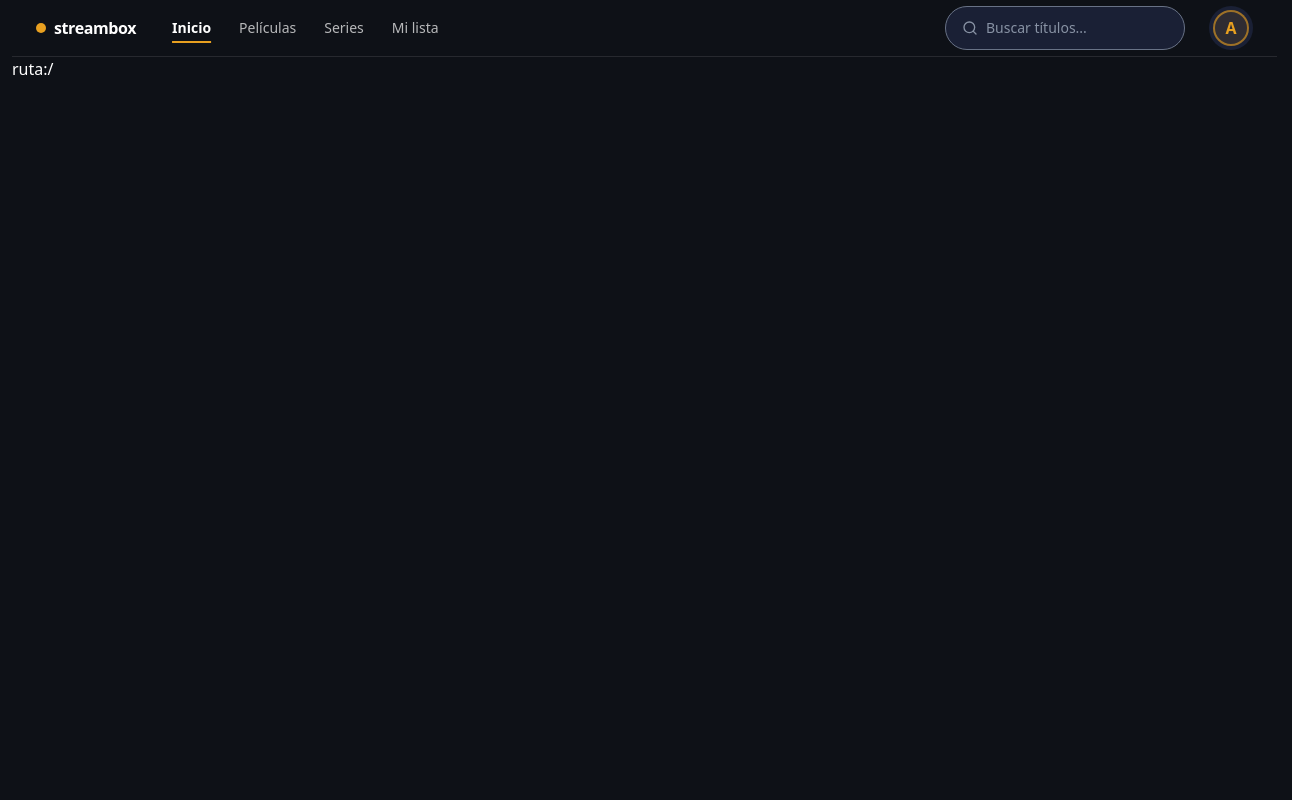
Navbar: «Cerrar sesión» espera al servidor › si no hay conexión ni en el reintento, la sesión sigue abierta, avisa y el botón vuelve a «Cerrar sesión» para reintentar
This screenshot has width=1292, height=800.
Click the button named "Menú de usuario". click: click(1231, 28)
box: [1209,6,1253,50]
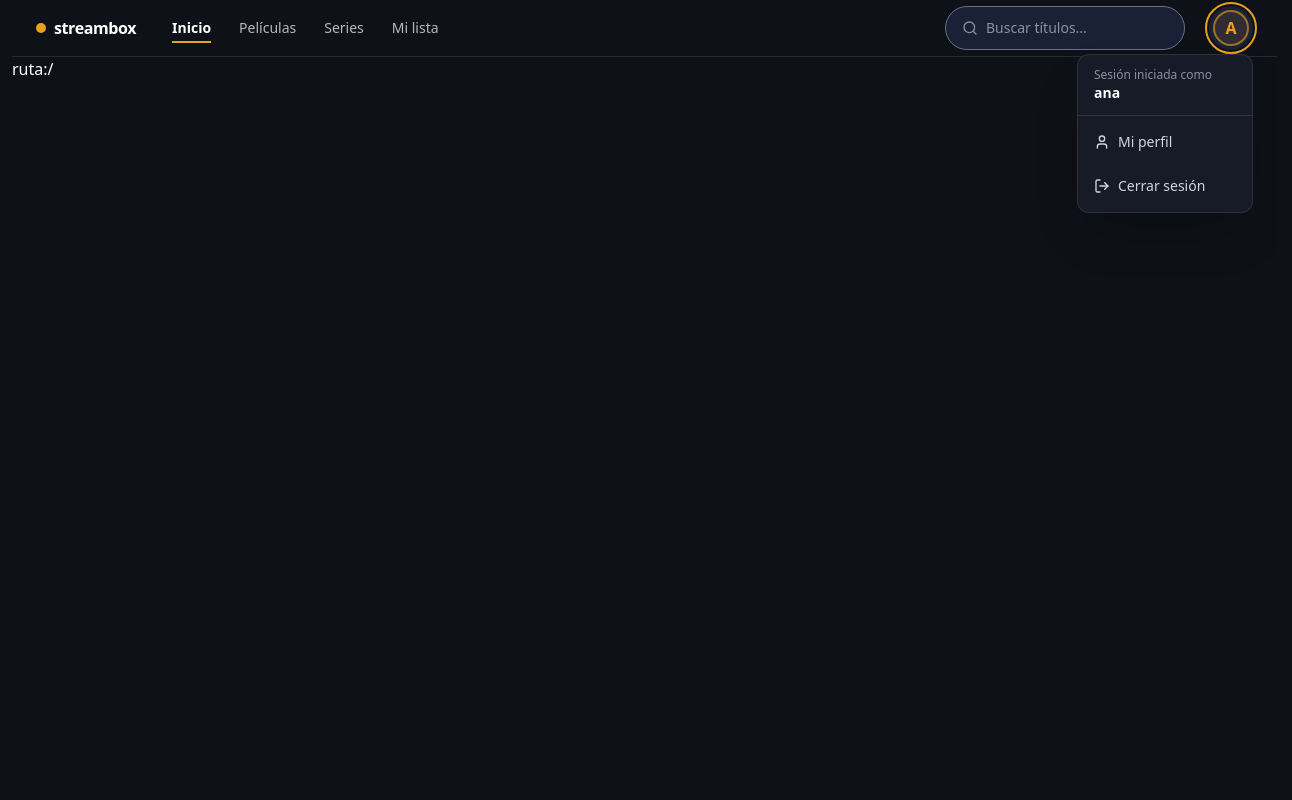
Click the button "Cerrar sesión". click: click(1165, 186)
box: [1078,164,1252,208]
Wait 1000 ms
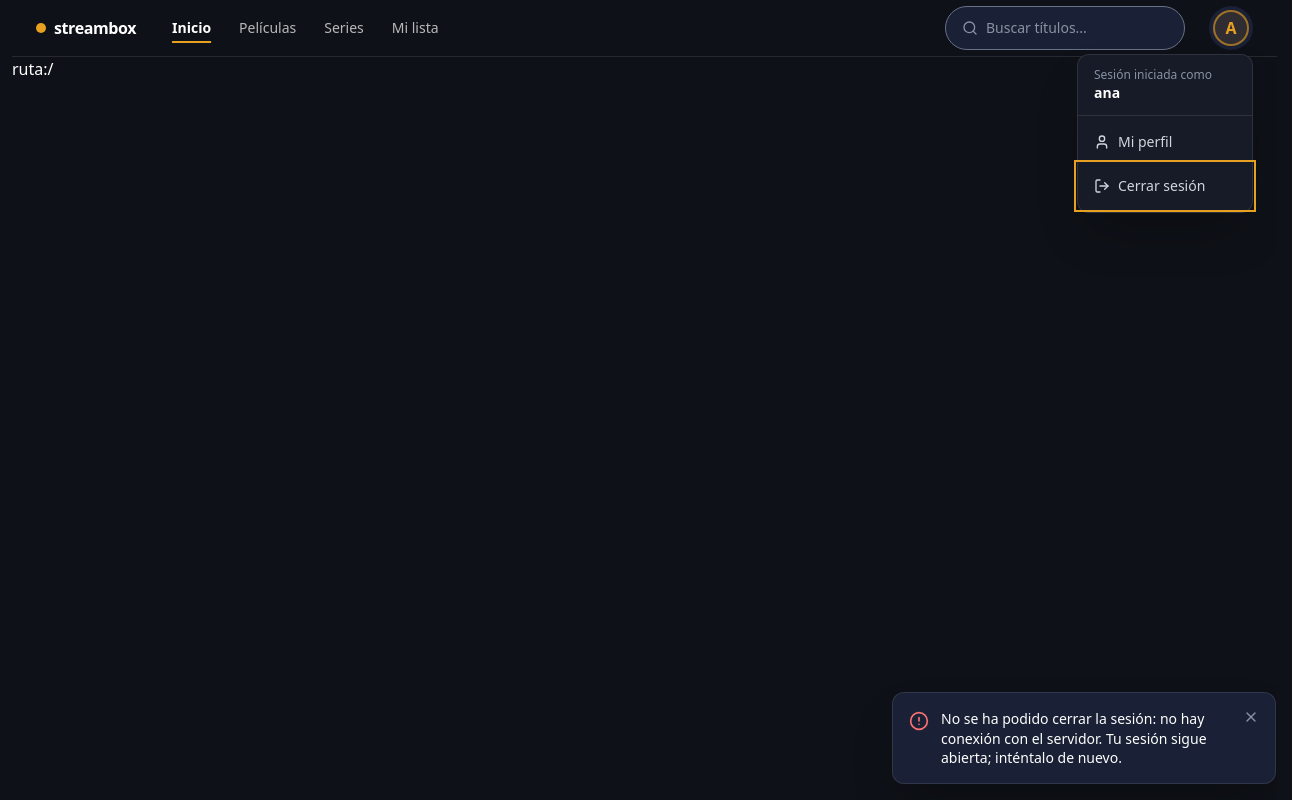
Check: the button named "Cerrando sesión..." is shown, box [1078,164,1252,208]
Check: the text "No se ha podido cerrar la sesión: no hay conexión con el servidor. Tu sesión sigue abierta; inténtalo de nuevo." is shown, box [941,709,1206,767]
